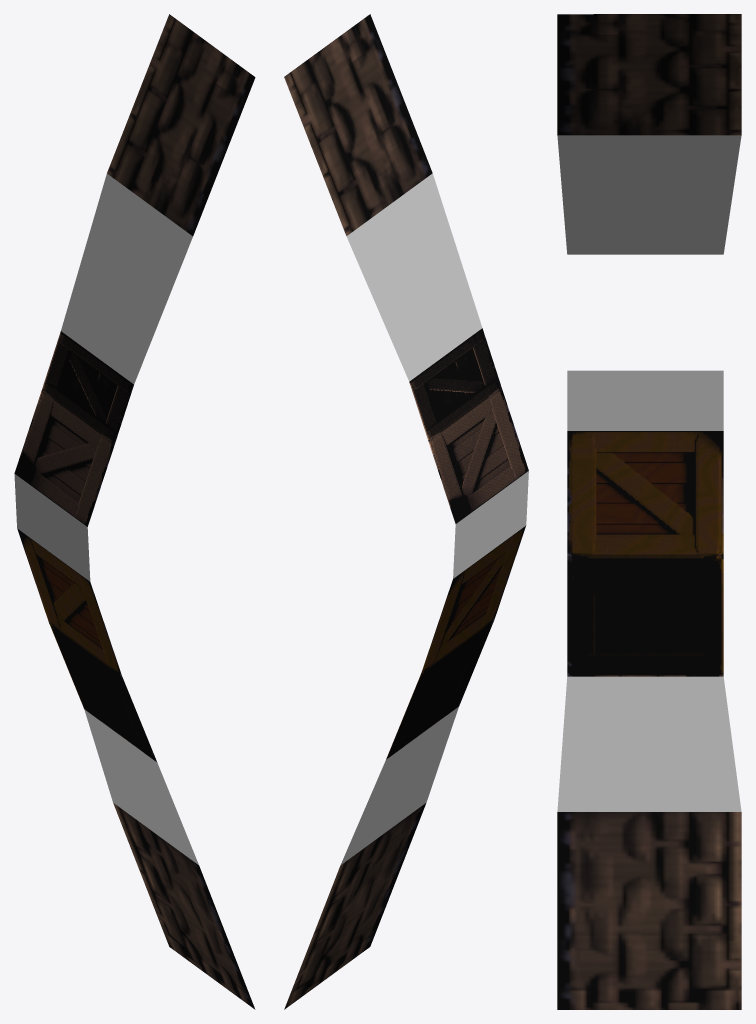
The model's file is collide_CrateWall.obj.
3 views of the same model, side by side, from view 1: azimuth 30°, elevation 25°; view 2: azimuth 150°, elevation 25°; view 3: azimuth 270°, elevation 25° (orthographic). The views are drawn at different scales.
Parts seen in each view (by area): view 1: collide_CrateWall; view 2: collide_CrateWall; view 3: collide_CrateWall.
Part boxes in pixels (x1,y1,x2,y2): collide_CrateWall: (14,14,255,1009); collide_CrateWall: (284,14,528,1009); collide_CrateWall: (557,14,741,1009).
Size of the model in its own units: 46.88 by 256 by 42.91.
